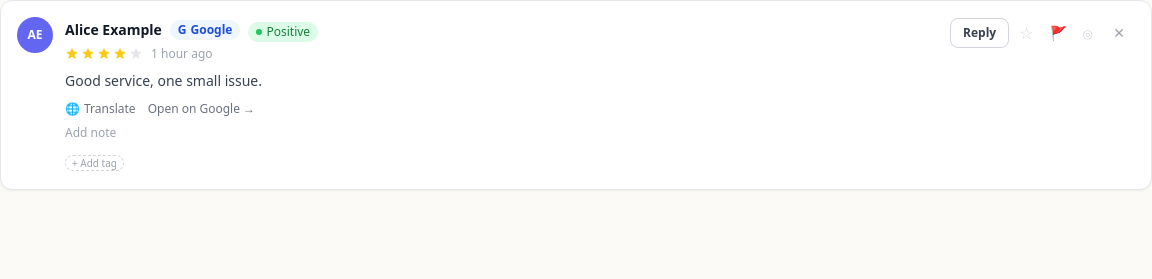
Test case: ReviewCard › private note: "Add a note" button opens the editor
Click the button "Add note".
click(91, 133)  # box 65,125 -> 116,141
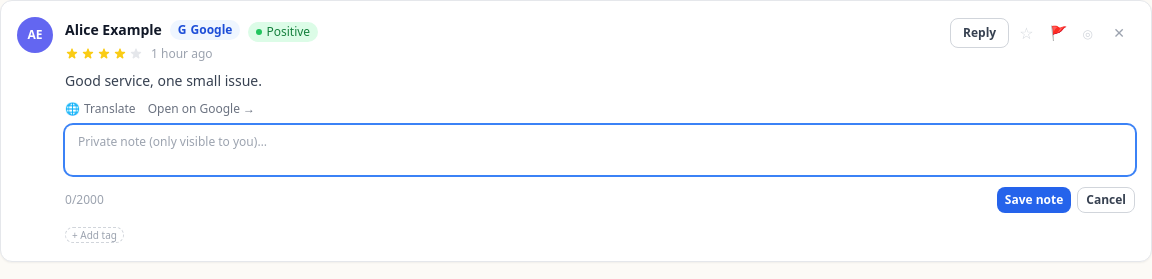
Result: the text box labelled "Private note (only visible to you)…" is shown at 65,125 -> 1135,175
